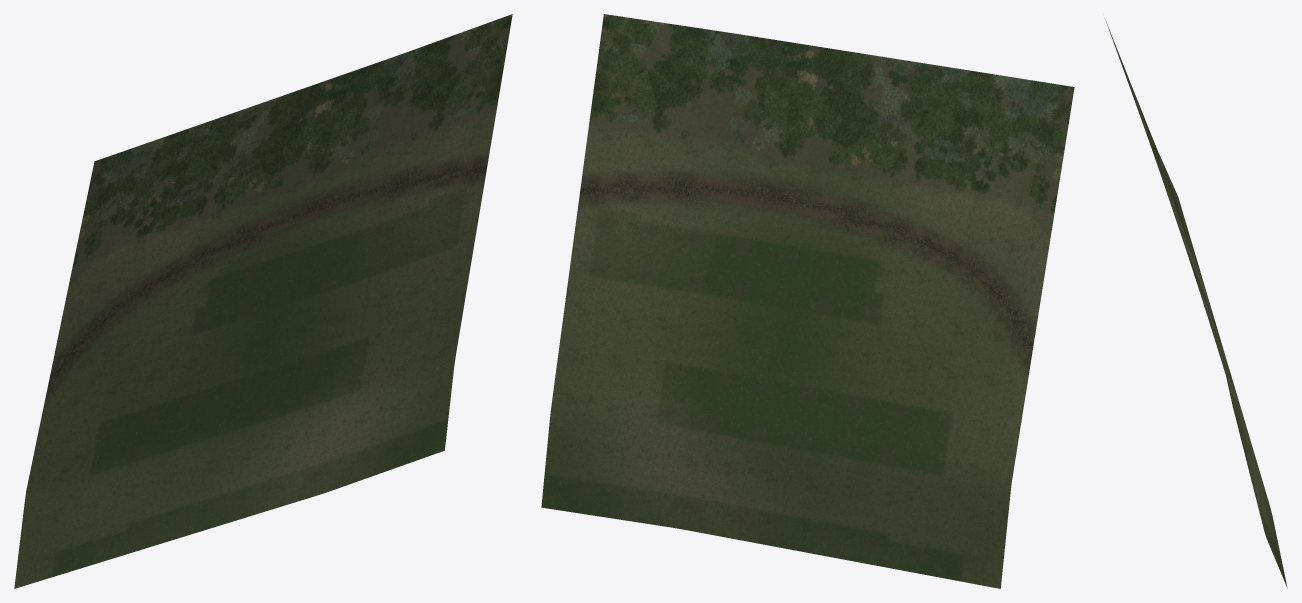
The model's file is terrain_core_05_07.obj.
The picture shows the model from 3 angles, left to right: view 1: azimuth 30°, elevation 25°; view 2: azimuth 150°, elevation 25°; view 3: azimuth 270°, elevation 25°; orthographic projection. The views are drawn at different scales.
Visible parts, largest first — view 1: terrain_core_05_07; view 2: terrain_core_05_07; view 3: terrain_core_05_07.
Boxes of the visible parts, x1,y1,x2,y2 form: terrain_core_05_07: [14, 14, 512, 588]; terrain_core_05_07: [541, 14, 1074, 588]; terrain_core_05_07: [1105, 20, 1287, 588].
Size of the model in its own units: 32 by 32 by 13.64.
Materials: 1 (1 with a texture image).
